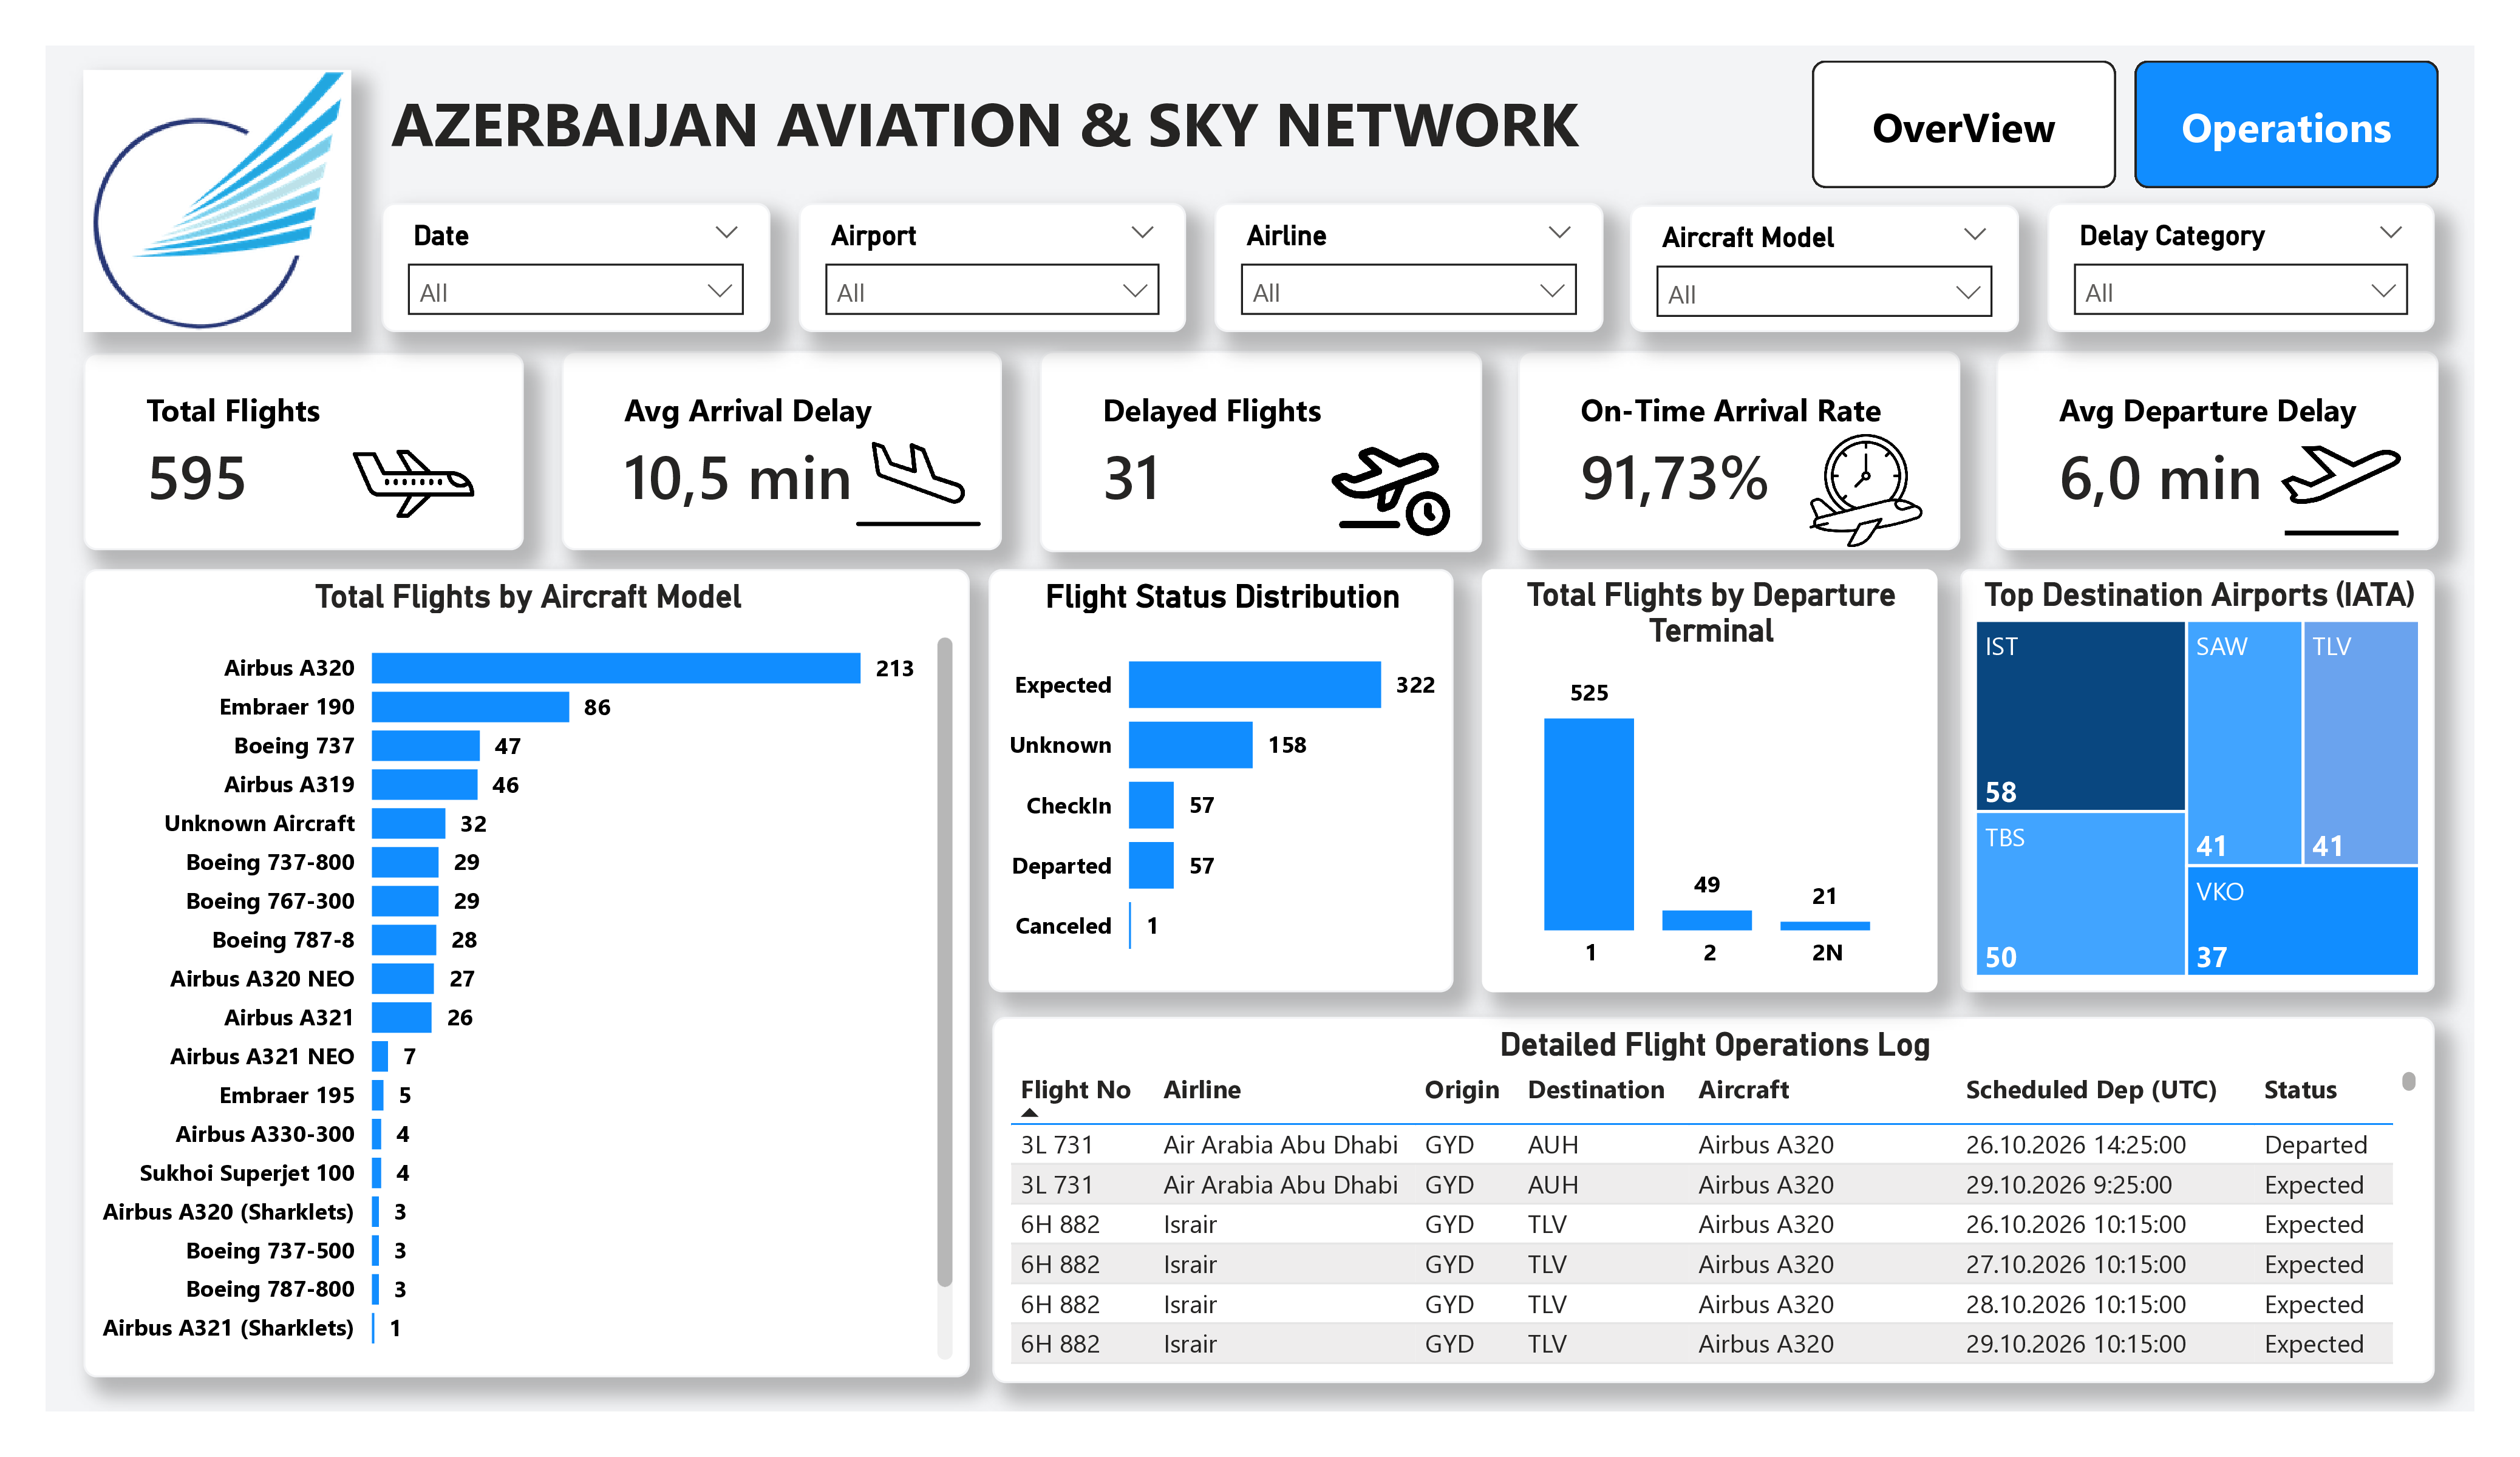

The dashboard page shown, as its layout file describes it:
{"tool":"powerbi","page":{"name":"Operations","canvas":[1280,720],"ordinal":1},"visuals":[{"type":"cardVisual","fields":{"Data":["_Measures.Total Flights"]},"box":[20,161.7,232,104.4],"z":0},{"type":"cardVisual","fields":{"Data":["_Measures.Avg Arrival Delay Min"]},"box":[271.6,161.5,232.7,104.6],"z":1000},{"type":"cardVisual","fields":{"Data":["_Measures.Delayed Flights"]},"box":[524,161.1,232.7,105.7],"z":2000},{"type":"cardVisual","fields":{"Data":["_Measures.On-Time Rate %"]},"box":[775.9,161.5,232.7,104.6],"z":3000},{"type":"cardVisual","fields":{"Data":["_Measures.Avg Delay Min"]},"box":[1028.1,161.5,232.7,104.6],"z":4000},{"type":"pageNavigator","box":[931.3,8.4,330.1,66.4],"z":5000},{"type":"textbox","box":[177.2,12.7,650.8,59.1],"z":6000},{"type":"slicer","fields":{"Values":["dim_date.full_date"]},"box":[177.2,82.6,204.6,68.6],"z":7000},{"type":"slicer","fields":{"Values":["dim_airports.airport_name"]},"box":[396.6,82.6,204.6,68.6],"z":8000},{"type":"slicer","fields":{"Values":["dim_airlines.airline_name"]},"box":[615.9,82.6,204.6,68.6],"z":9000},{"type":"slicer","fields":{"Values":["dim_aircraft_models.aircraft_model"]},"box":[835.3,83.7,204.6,67.5],"z":10000},{"type":"slicer","fields":{"Values":["fact_flights.Delay_Category"]},"box":[1054.7,82.6,204.6,68.6],"z":11000},{"type":"clusteredBarChart","title":"Total Flights by Aircraft Model","fields":{"Category":["dim_aircraft_models.aircraft_model"],"Y":["_Measures.Total Flights"]},"box":[20.3,276.4,466.4,425.8],"z":12000},{"type":"clusteredBarChart","title":"Flight Status Distribution","fields":{"Category":["fact_flights.status"],"Y":["_Measures.Total Flights"]},"box":[497.3,276.4,244.4,223],"z":13000},{"type":"treemap","title":"Top Destination Airports (IATA)","fields":{"Group":["fact_flights.destination_iata"],"Values":["_Measures.Total Flights"]},"box":[1008.5,276.4,250.8,223],"z":14000},{"type":"tableEx","title":"Detailed Flight Operations Log","fields":{"Values":["fact_flights.flight_number","dim_airlines.airline_name","fact_flights.origin_iata","fact_flights.destination_iata","dim_aircraft_models.aircraft_model","fact_flights.sched_dep_utc","fact_flights.status"]},"box":[498.9,511.5,760.4,193],"z":15000},{"type":"clusteredColumnChart","title":"Total Flights by Departure Terminal","fields":{"Category":["fact_flights.dep_terminal"],"Y":["_Measures.Total Flights"]},"box":[756.7,276.4,240.1,223],"z":16000},{"type":"image","box":[20,12.7,141.3,138.2],"z":17000},{"type":"image","box":[908.7,203,101.5,62.8],"z":17001},{"type":"image","box":[1157.6,203,103.9,62.8],"z":17002},{"type":"image","box":[660.2,203.6,97,62.2],"z":17003},{"type":"image","box":[414.5,195.7,90.6,70.1],"z":17004},{"type":"image","box":[136.1,196.2,116,69.6],"z":17005}]}

Visuals, with their boxes on the page's 1280x720 design canvas (x1, y1, x2, y2). These are canvas units, not pixel positions in the 2520x1457 screenshot, which may show the page scaled, cropped or inside an application window:
cardVisual - _Measures.Total Flights: <region>20, 162, 252, 266</region>
cardVisual - _Measures.Avg Arrival Delay Min: <region>272, 162, 504, 266</region>
cardVisual - _Measures.Delayed Flights: <region>524, 161, 757, 267</region>
cardVisual - _Measures.On-Time Rate %: <region>776, 162, 1009, 266</region>
cardVisual - _Measures.Avg Delay Min: <region>1028, 162, 1261, 266</region>
pageNavigator: <region>931, 8, 1261, 75</region>
textbox: <region>177, 13, 828, 72</region>
slicer - dim_date.full_date: <region>177, 83, 382, 151</region>
slicer - dim_airports.airport_name: <region>397, 83, 601, 151</region>
slicer - dim_airlines.airline_name: <region>616, 83, 820, 151</region>
slicer - dim_aircraft_models.aircraft_model: <region>835, 84, 1040, 151</region>
slicer - fact_flights.Delay_Category: <region>1055, 83, 1259, 151</region>
"Total Flights by Aircraft Model" clusteredBarChart: <region>20, 276, 487, 702</region>
"Flight Status Distribution" clusteredBarChart: <region>497, 276, 742, 499</region>
"Top Destination Airports (IATA)" treemap: <region>1008, 276, 1259, 499</region>
"Detailed Flight Operations Log" tableEx: <region>499, 512, 1259, 704</region>
"Total Flights by Departure Terminal" clusteredColumnChart: <region>757, 276, 997, 499</region>
image: <region>20, 13, 161, 151</region>
image: <region>909, 203, 1010, 266</region>
image: <region>1158, 203, 1262, 266</region>
image: <region>660, 204, 757, 266</region>
image: <region>414, 196, 505, 266</region>
image: <region>136, 196, 252, 266</region>
